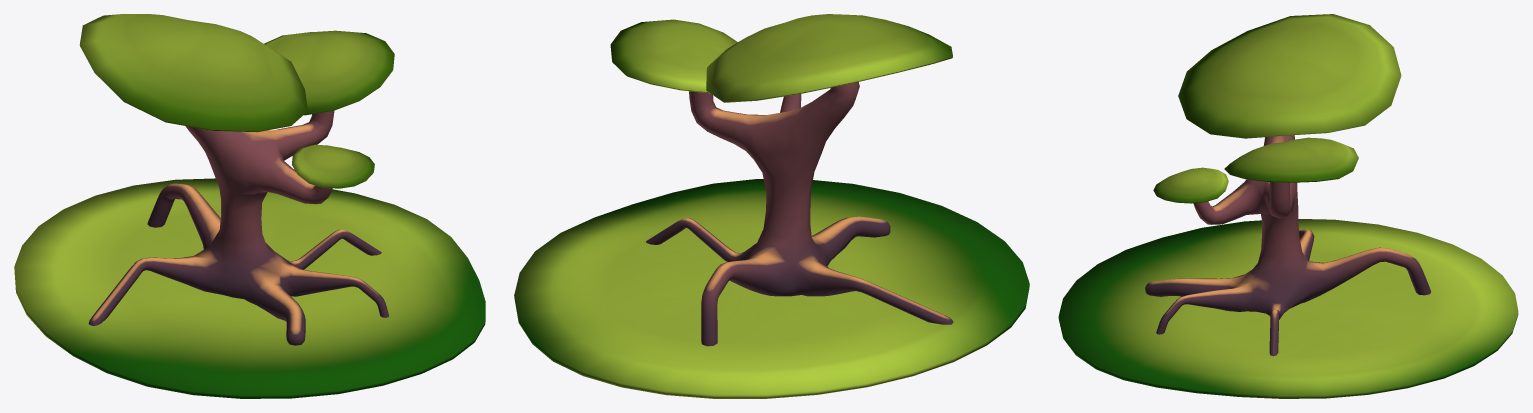
3 renders of one model, left to right at view 1: azimuth 30°, elevation 25°; view 2: azimuth 150°, elevation 25°; view 3: azimuth 270°, elevation 25°, orthographic. The views are drawn at different scales.
Visible parts, largest first — view 1: grassland, trunk, top leaves, middle leaves, lower leaves; view 2: grassland, trunk, top leaves, middle leaves; view 3: grassland, top leaves, trunk, middle leaves, lower leaves.
Boxes of the visible parts, bbox=[...] form: grassland: bbox=[14, 178, 485, 398]; trunk: bbox=[88, 111, 388, 345]; top leaves: bbox=[79, 14, 307, 132]; middle leaves: bbox=[264, 30, 394, 115]; lower leaves: bbox=[292, 144, 374, 188]; grassland: bbox=[514, 179, 1029, 398]; trunk: bbox=[646, 82, 953, 346]; top leaves: bbox=[706, 14, 952, 102]; middle leaves: bbox=[610, 19, 737, 93]; grassland: bbox=[1058, 219, 1518, 398]; top leaves: bbox=[1178, 14, 1401, 138]; trunk: bbox=[1145, 135, 1430, 356]; middle leaves: bbox=[1224, 137, 1358, 182]; lower leaves: bbox=[1153, 167, 1228, 203].
Bounding box in the file's own units: 0.9095 × 0.5921 × 1.
5 materials, 5 textured.
